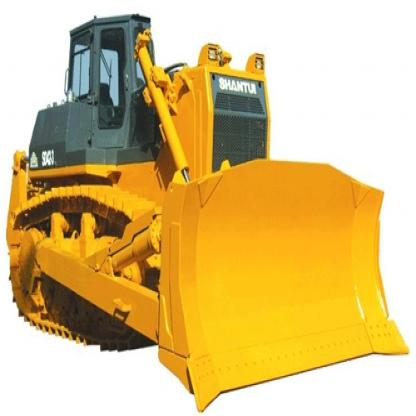bull_dozer/loader/grader: (3, 9, 415, 404)
